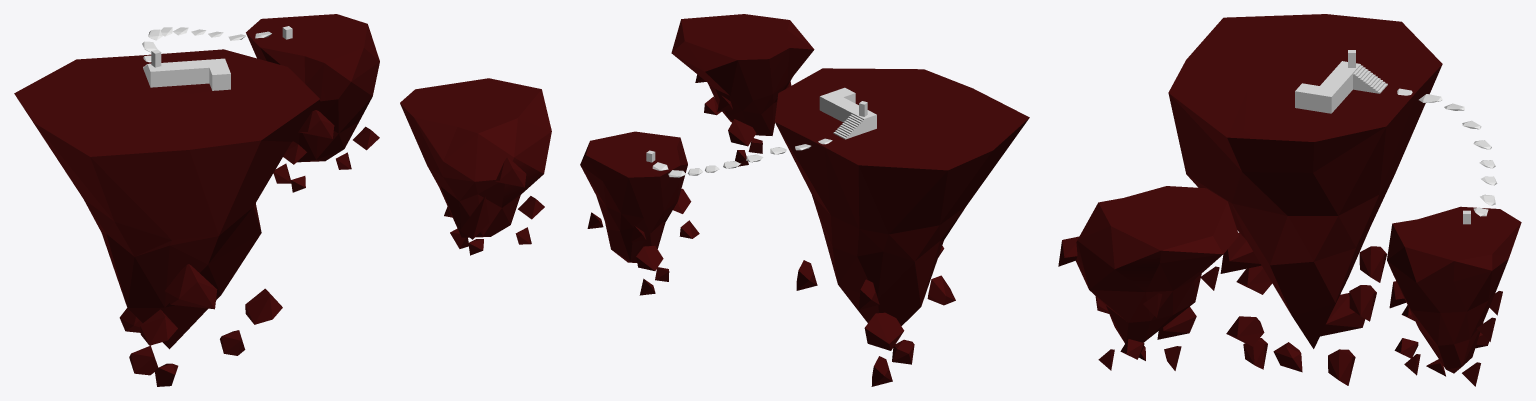
The model's file is 01_parkur.fbx.
3 renders of one model, left to right at view 1: azimuth 30°, elevation 25°; view 2: azimuth 150°, elevation 25°; view 3: azimuth 270°, elevation 25°, orthographic. The views are drawn at different scales.
Visible parts, largest first — view 1: Icosphere, Icosphere.002, Icosphere.001, Sphere.008, Sphere.002, Cube, Sphere.001; view 2: Icosphere, Icosphere.002, Icosphere.001, Sphere.008, Sphere.001, Sphere.002, Cube, Cube.023; view 3: Icosphere, Icosphere.002, Icosphere.001, Sphere.008, Sphere.002, Sphere.001, Cube, Cube.023.
Boxes of the visible parts, <box> form: Icosphere: <box>14,49,319,349</box>; Icosphere.002: <box>400,78,551,237</box>; Icosphere.001: <box>246,14,379,162</box>; Sphere.008: <box>119,264,282,386</box>; Sphere.002: <box>444,157,544,255</box>; Cube: <box>147,58,230,90</box>; Sphere.001: <box>273,110,379,192</box>; Icosphere: <box>775,68,1029,325</box>; Icosphere.002: <box>671,14,814,135</box>; Icosphere.001: <box>580,131,687,262</box>; Sphere.008: <box>796,246,955,386</box>; Sphere.001: <box>587,188,699,295</box>; Sphere.002: <box>695,74,791,166</box>; Cube: <box>819,87,876,132</box>; Cube.023: <box>833,114,863,139</box>; Icosphere: <box>1168,14,1442,348</box>; Icosphere.002: <box>1076,186,1238,343</box>; Icosphere.001: <box>1387,206,1521,373</box>; Sphere.008: <box>1220,232,1386,385</box>; Sphere.002: <box>1058,236,1219,370</box>; Sphere.001: <box>1389,281,1502,386</box>; Cube: <box>1295,61,1360,113</box>; Cube.023: <box>1353,65,1387,93</box>.
Size of the model in its own units: 6.01 by 5.3 by 4.27.
